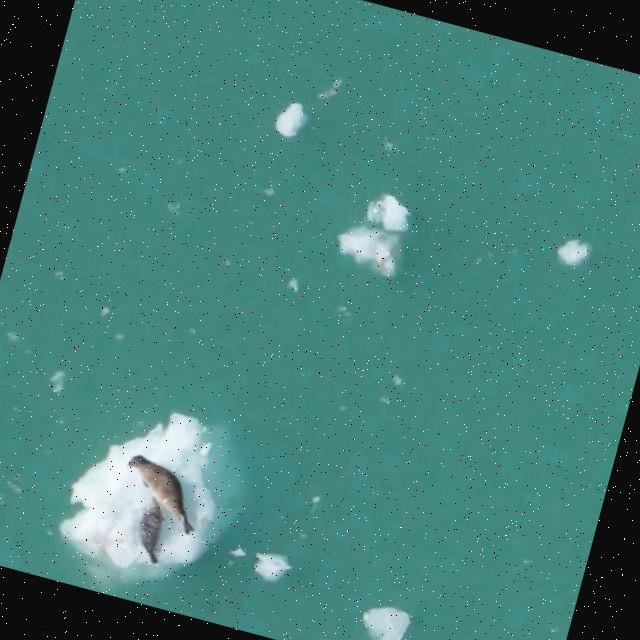seal: (124, 442, 204, 546), (136, 501, 164, 563)
